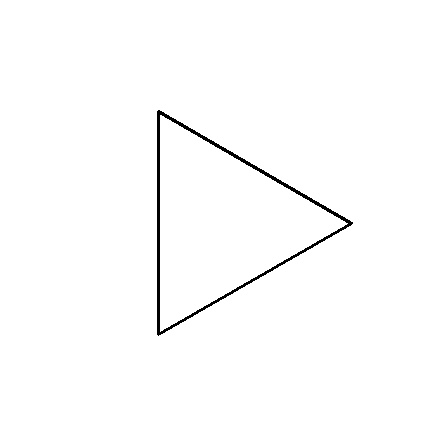line_segment: (156, 110, 353, 336)
